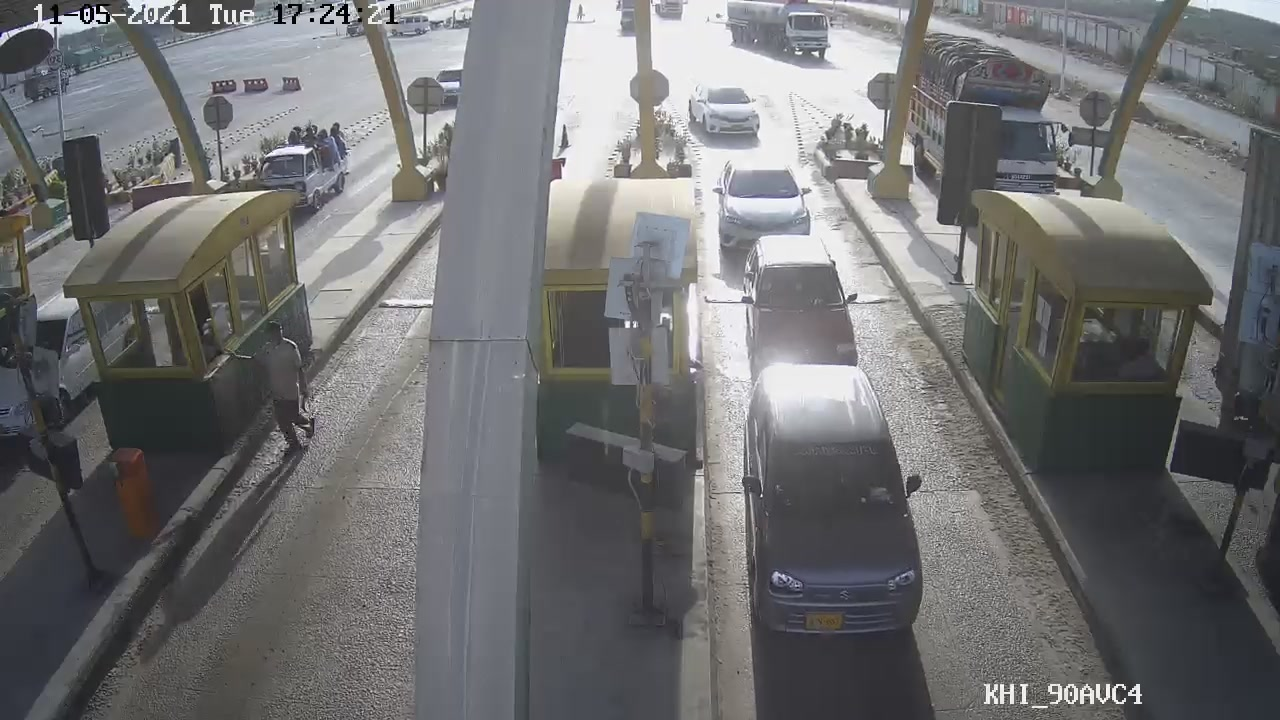F1: (733, 355, 931, 649)
